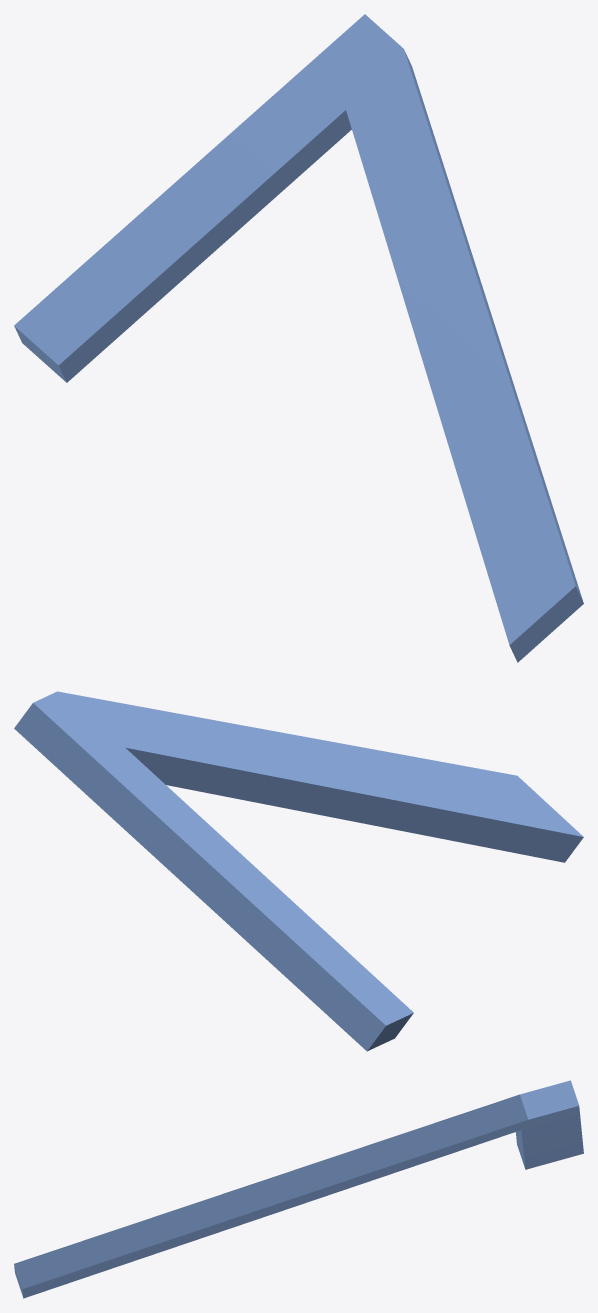
File: New_Number_7.gltf
The picture shows the model from 3 angles, top to bottom: view 1: azimuth 30°, elevation 25°; view 2: azimuth 150°, elevation 25°; view 3: azimuth 270°, elevation 25°; orthographic projection. The views are drawn at different scales.
Visible parts, largest first — view 1: Part 727; view 2: Part 727; view 3: Part 727.
Part boxes in pixels (x1=…): Part 727: x1=14, y1=14, x2=583, y2=662; Part 727: x1=14, y1=691, x2=583, y2=1051; Part 727: x1=14, y1=1080, x2=583, y2=1298.
Bounding box in the file's own units: 0.00329 × 0.00305 × 0.00541.
